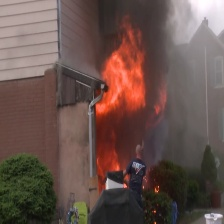fire: (92, 19, 166, 175)
